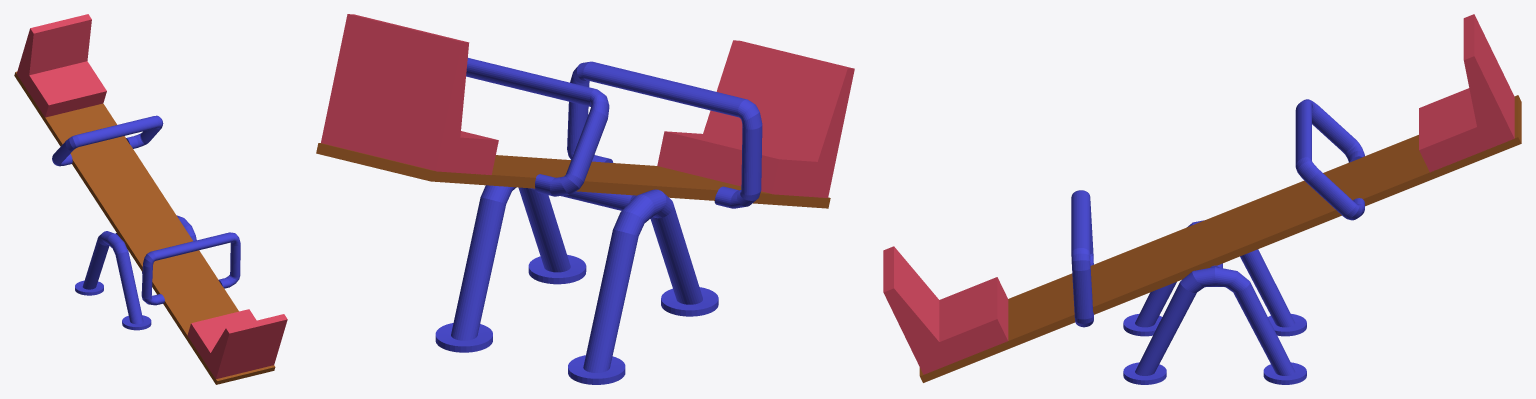
Rendered from jungkat jungkit (1).fbx.
3 renders of one model, left to right at view 1: azimuth 30°, elevation 25°; view 2: azimuth 150°, elevation 25°; view 3: azimuth 270°, elevation 25°, orthographic. The views are drawn at different scales.
Parts seen in each view (by area): view 1: Circle; view 2: Circle; view 3: Circle.
Boxes of the visible parts, x1,y1,x2,y2 form: Circle: (14, 14, 287, 384); Circle: (316, 14, 854, 384); Circle: (883, 14, 1521, 384).
Size of the model in its own units: 82.24 by 180 by 318.
